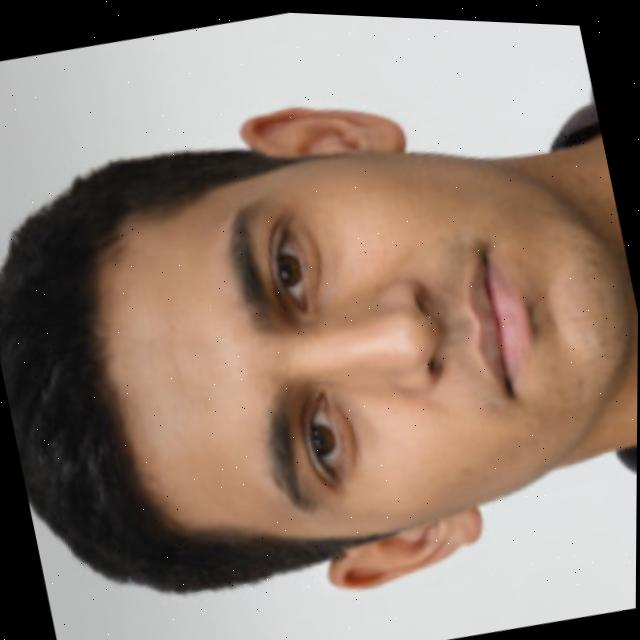natural: (0, 54, 640, 640)
